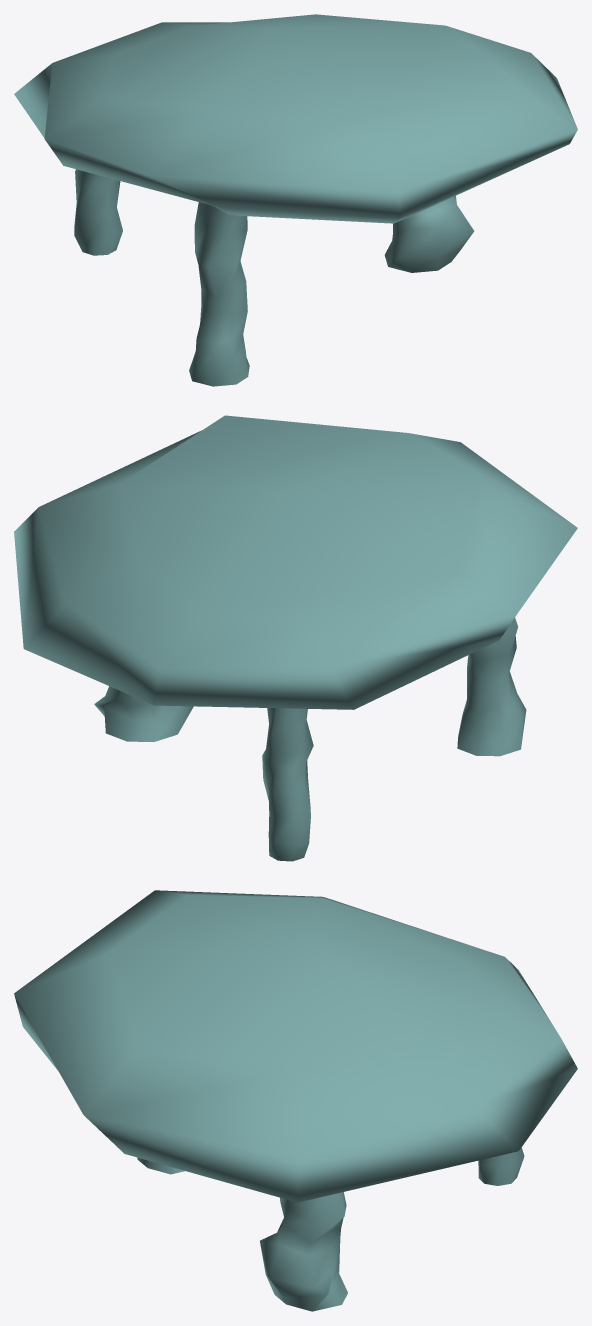
File: RockyPillar02_mesh.fbx
3 renders of one model, top to bottom at view 1: azimuth 30°, elevation 25°; view 2: azimuth 150°, elevation 25°; view 3: azimuth 270°, elevation 25°, orthographic. The views are drawn at different scales.
Parts seen in each view (by area): view 1: RockyPillar02_mesh; view 2: RockyPillar02_mesh; view 3: RockyPillar02_mesh.
Boxes of the visible parts, left/top/right/bottom form: RockyPillar02_mesh: left=14, top=14, right=577, bottom=386; RockyPillar02_mesh: left=14, top=415, right=577, bottom=861; RockyPillar02_mesh: left=14, top=890, right=577, bottom=1311.
Bounding box in the file's own units: 43.76 × 22.04 × 41.35.
